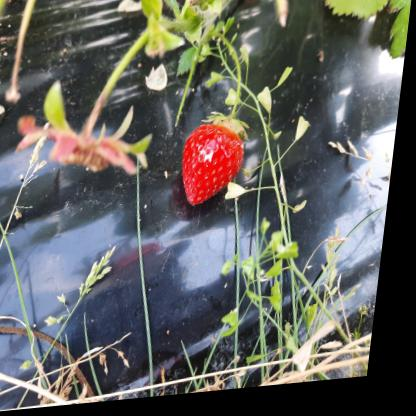ripe: (175, 119, 260, 219)
